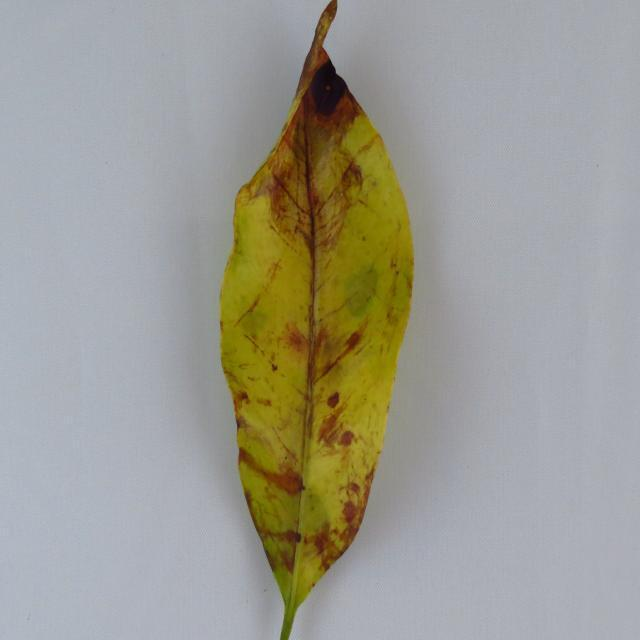DeficienciaNutricional-Nitrogeno: (225, 0, 413, 606)
